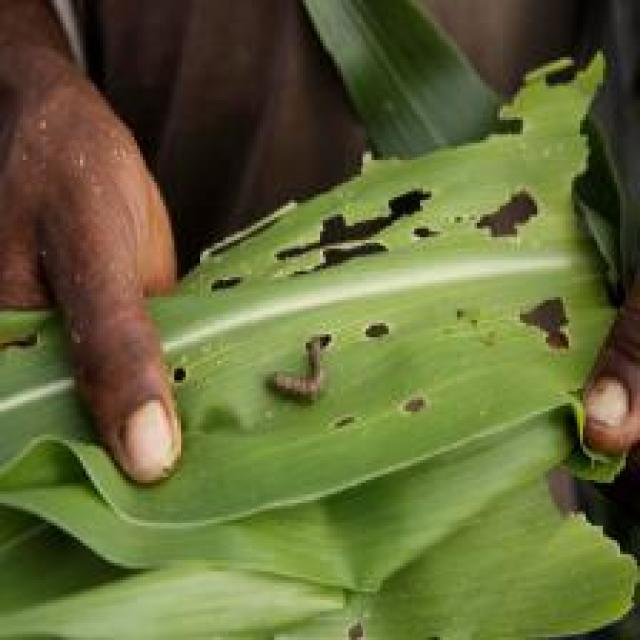Plaga: (246, 323, 366, 420)
